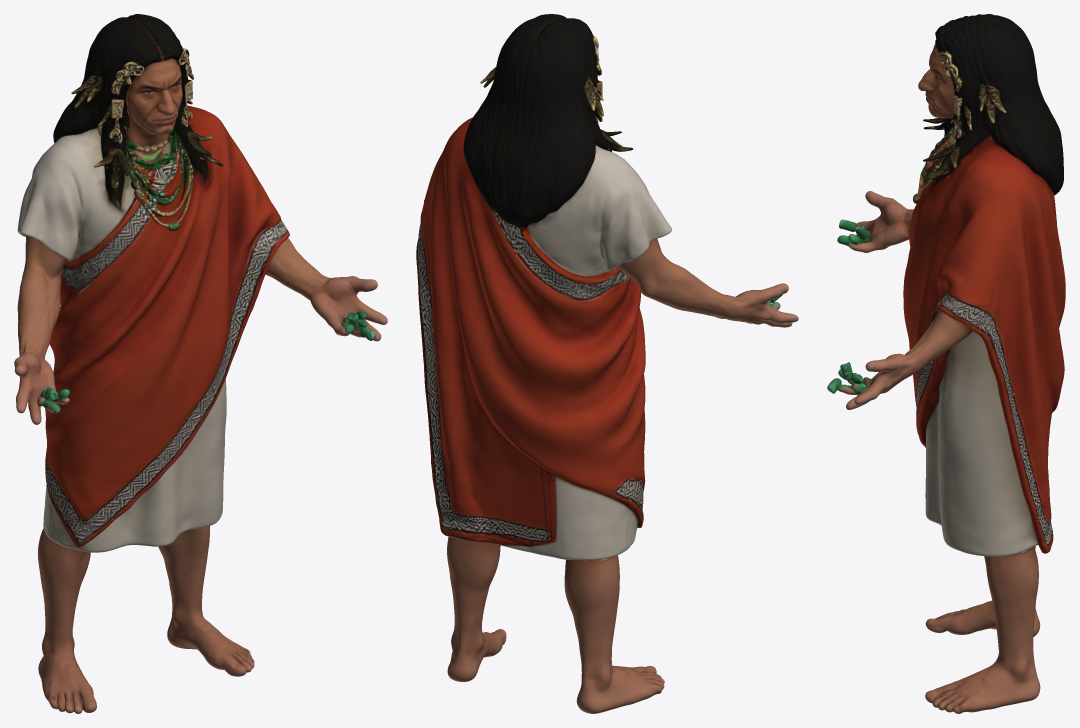
The model's file is 18-el-resplandor-de-la-peña-de-los-cristales-optimized.glb.
The picture shows the model from 3 angles, left to right: view 1: azimuth 30°, elevation 25°; view 2: azimuth 150°, elevation 25°; view 3: azimuth 270°, elevation 25°; orthographic projection.
Parts seen in each view (by area): view 1: tripo_node_dddf60d5-df6f-4e27-8eb2-2a87d3891815; view 2: tripo_node_dddf60d5-df6f-4e27-8eb2-2a87d3891815; view 3: tripo_node_dddf60d5-df6f-4e27-8eb2-2a87d3891815.
Part boxes in pixels (left/top/right/bottom): tripo_node_dddf60d5-df6f-4e27-8eb2-2a87d3891815: left=14, top=14, right=387, bottom=713; tripo_node_dddf60d5-df6f-4e27-8eb2-2a87d3891815: left=416, top=14, right=798, bottom=713; tripo_node_dddf60d5-df6f-4e27-8eb2-2a87d3891815: left=827, top=14, right=1065, bottom=713.
Bounding box in the file's own units: 0.5892 × 1 × 0.3328.
Materials: 1 (1 with a texture image).
